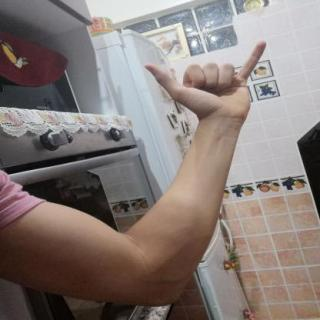YA: (133, 34, 274, 128)
